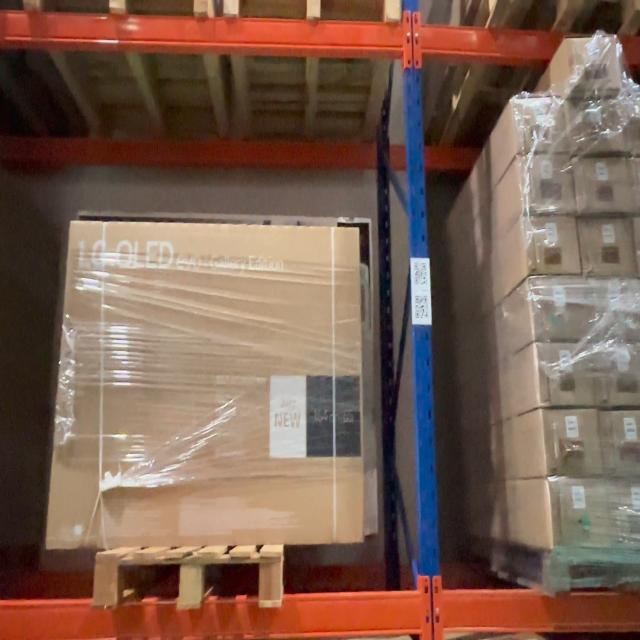box: (70, 227, 358, 544)
